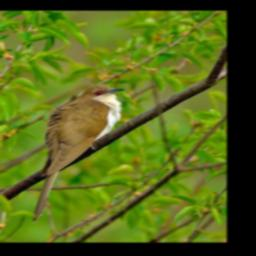Cuckoo: (30, 84, 126, 223)
